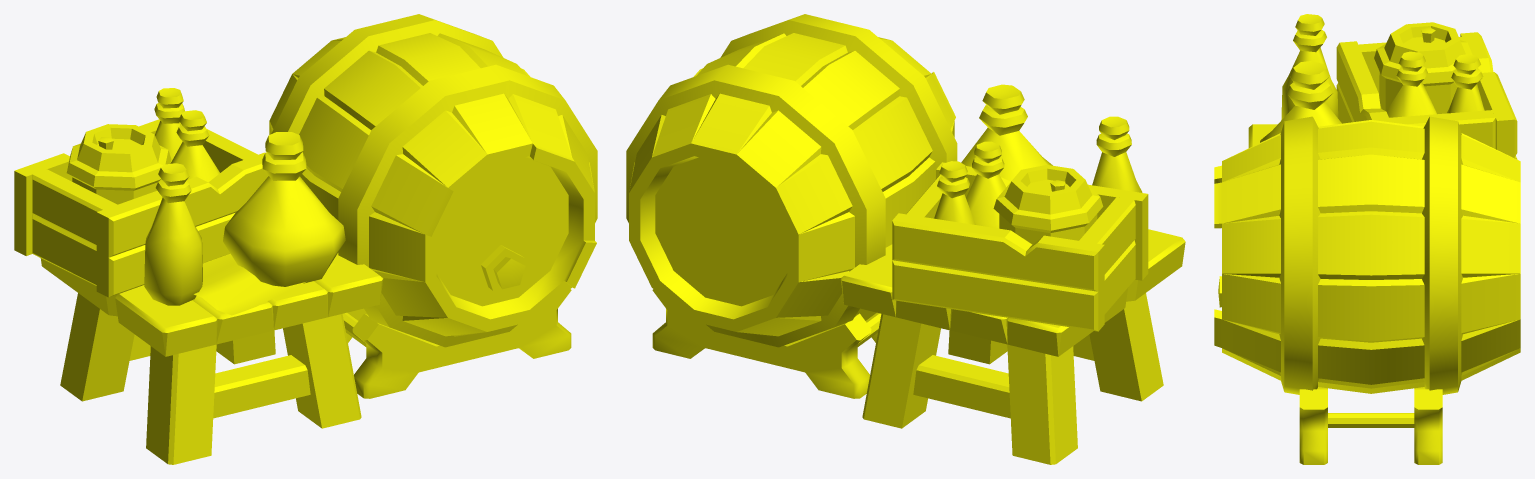
Rendered from kaykit-keg-decorated.glb.
3 views of the same model, side by side, from view 1: azimuth 30°, elevation 25°; view 2: azimuth 150°, elevation 25°; view 3: azimuth 270°, elevation 25° (orthographic). The views are drawn at different scales.
Parts seen in each view (by area): view 1: keg_decorated; view 2: keg_decorated; view 3: keg_decorated.
Part boxes in pixels (box(x1,y1,x2,y2)): keg_decorated: box(14, 14, 597, 464); keg_decorated: box(626, 14, 1185, 464); keg_decorated: box(1214, 14, 1520, 464).
Bounding box in the file's own units: 3.52 × 2.05 × 2.
